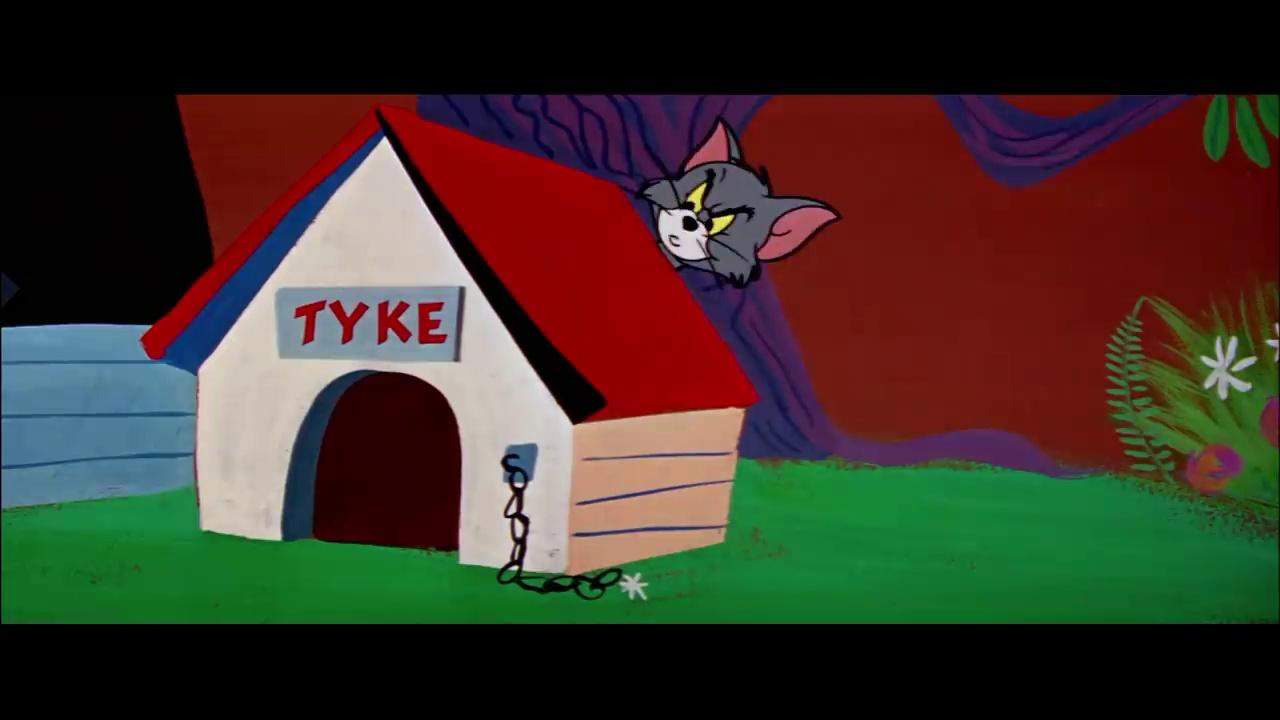Tom: (637, 111, 845, 291)
